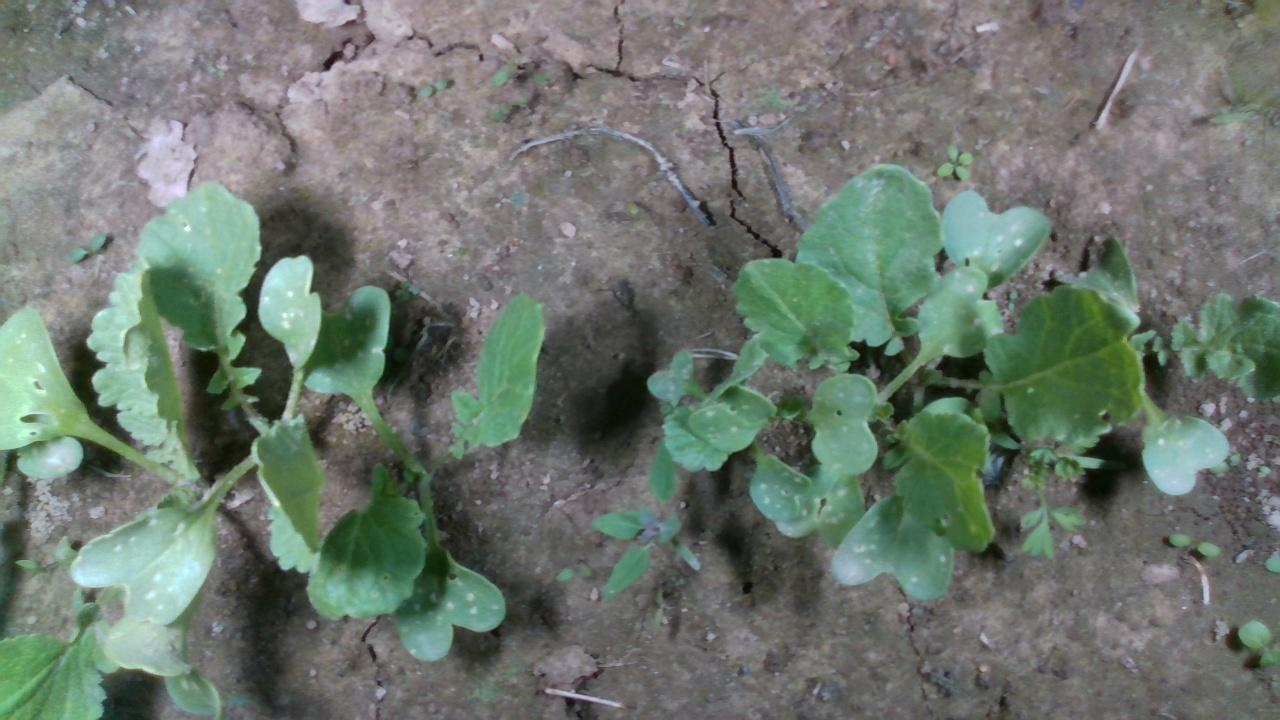weed: (933, 142, 972, 182), (1165, 531, 1221, 557), (67, 230, 107, 263)
